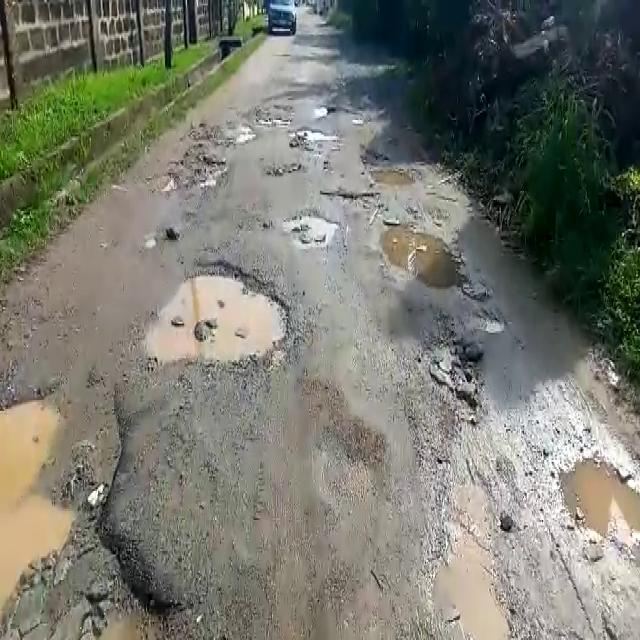Pothole: (0, 383, 147, 640), (154, 255, 296, 372), (555, 455, 639, 551), (379, 221, 472, 293), (416, 336, 483, 426), (145, 148, 227, 197), (283, 211, 336, 249), (367, 167, 419, 191), (323, 187, 384, 202), (262, 159, 309, 178)
